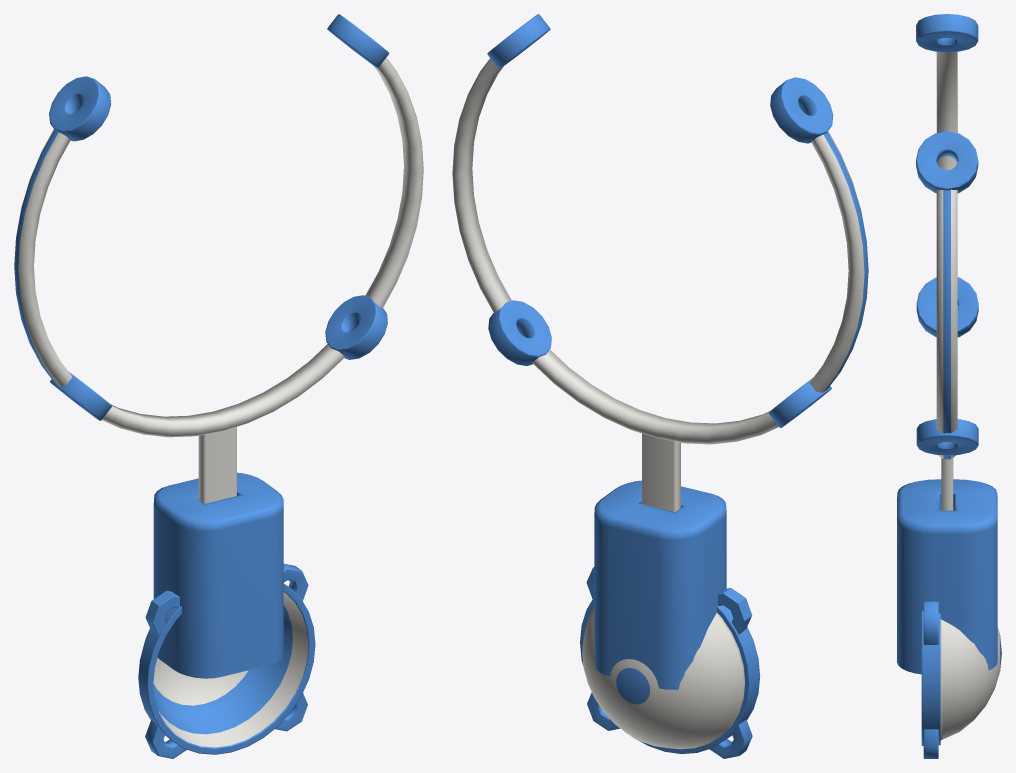
File: Catapult.fbx
The picture shows the model from 3 angles, left to right: view 1: azimuth 30°, elevation 25°; view 2: azimuth 150°, elevation 25°; view 3: azimuth 270°, elevation 25°; orthographic projection. The views are drawn at different scales.
Parts seen in each view (by area): view 1: Catapult_Body, Catapult_Base, Catapult_Basket; view 2: Catapult_Body, Catapult_Base, Catapult_Basket; view 3: Catapult_Body, Catapult_Base, Catapult_Basket.
Boxes of the visible parts, bbox=[...] form: Catapult_Body: bbox=[14, 14, 423, 503]; Catapult_Base: bbox=[153, 472, 283, 678]; Catapult_Basket: bbox=[138, 563, 315, 758]; Catapult_Body: bbox=[452, 14, 868, 511]; Catapult_Base: bbox=[594, 480, 726, 689]; Catapult_Basket: bbox=[580, 567, 760, 758]; Catapult_Body: bbox=[916, 14, 978, 510]; Catapult_Base: bbox=[897, 479, 997, 674]; Catapult_Basket: bbox=[921, 601, 1001, 758].
Bounding box in the file's own units: 771 × 1262 × 180.
